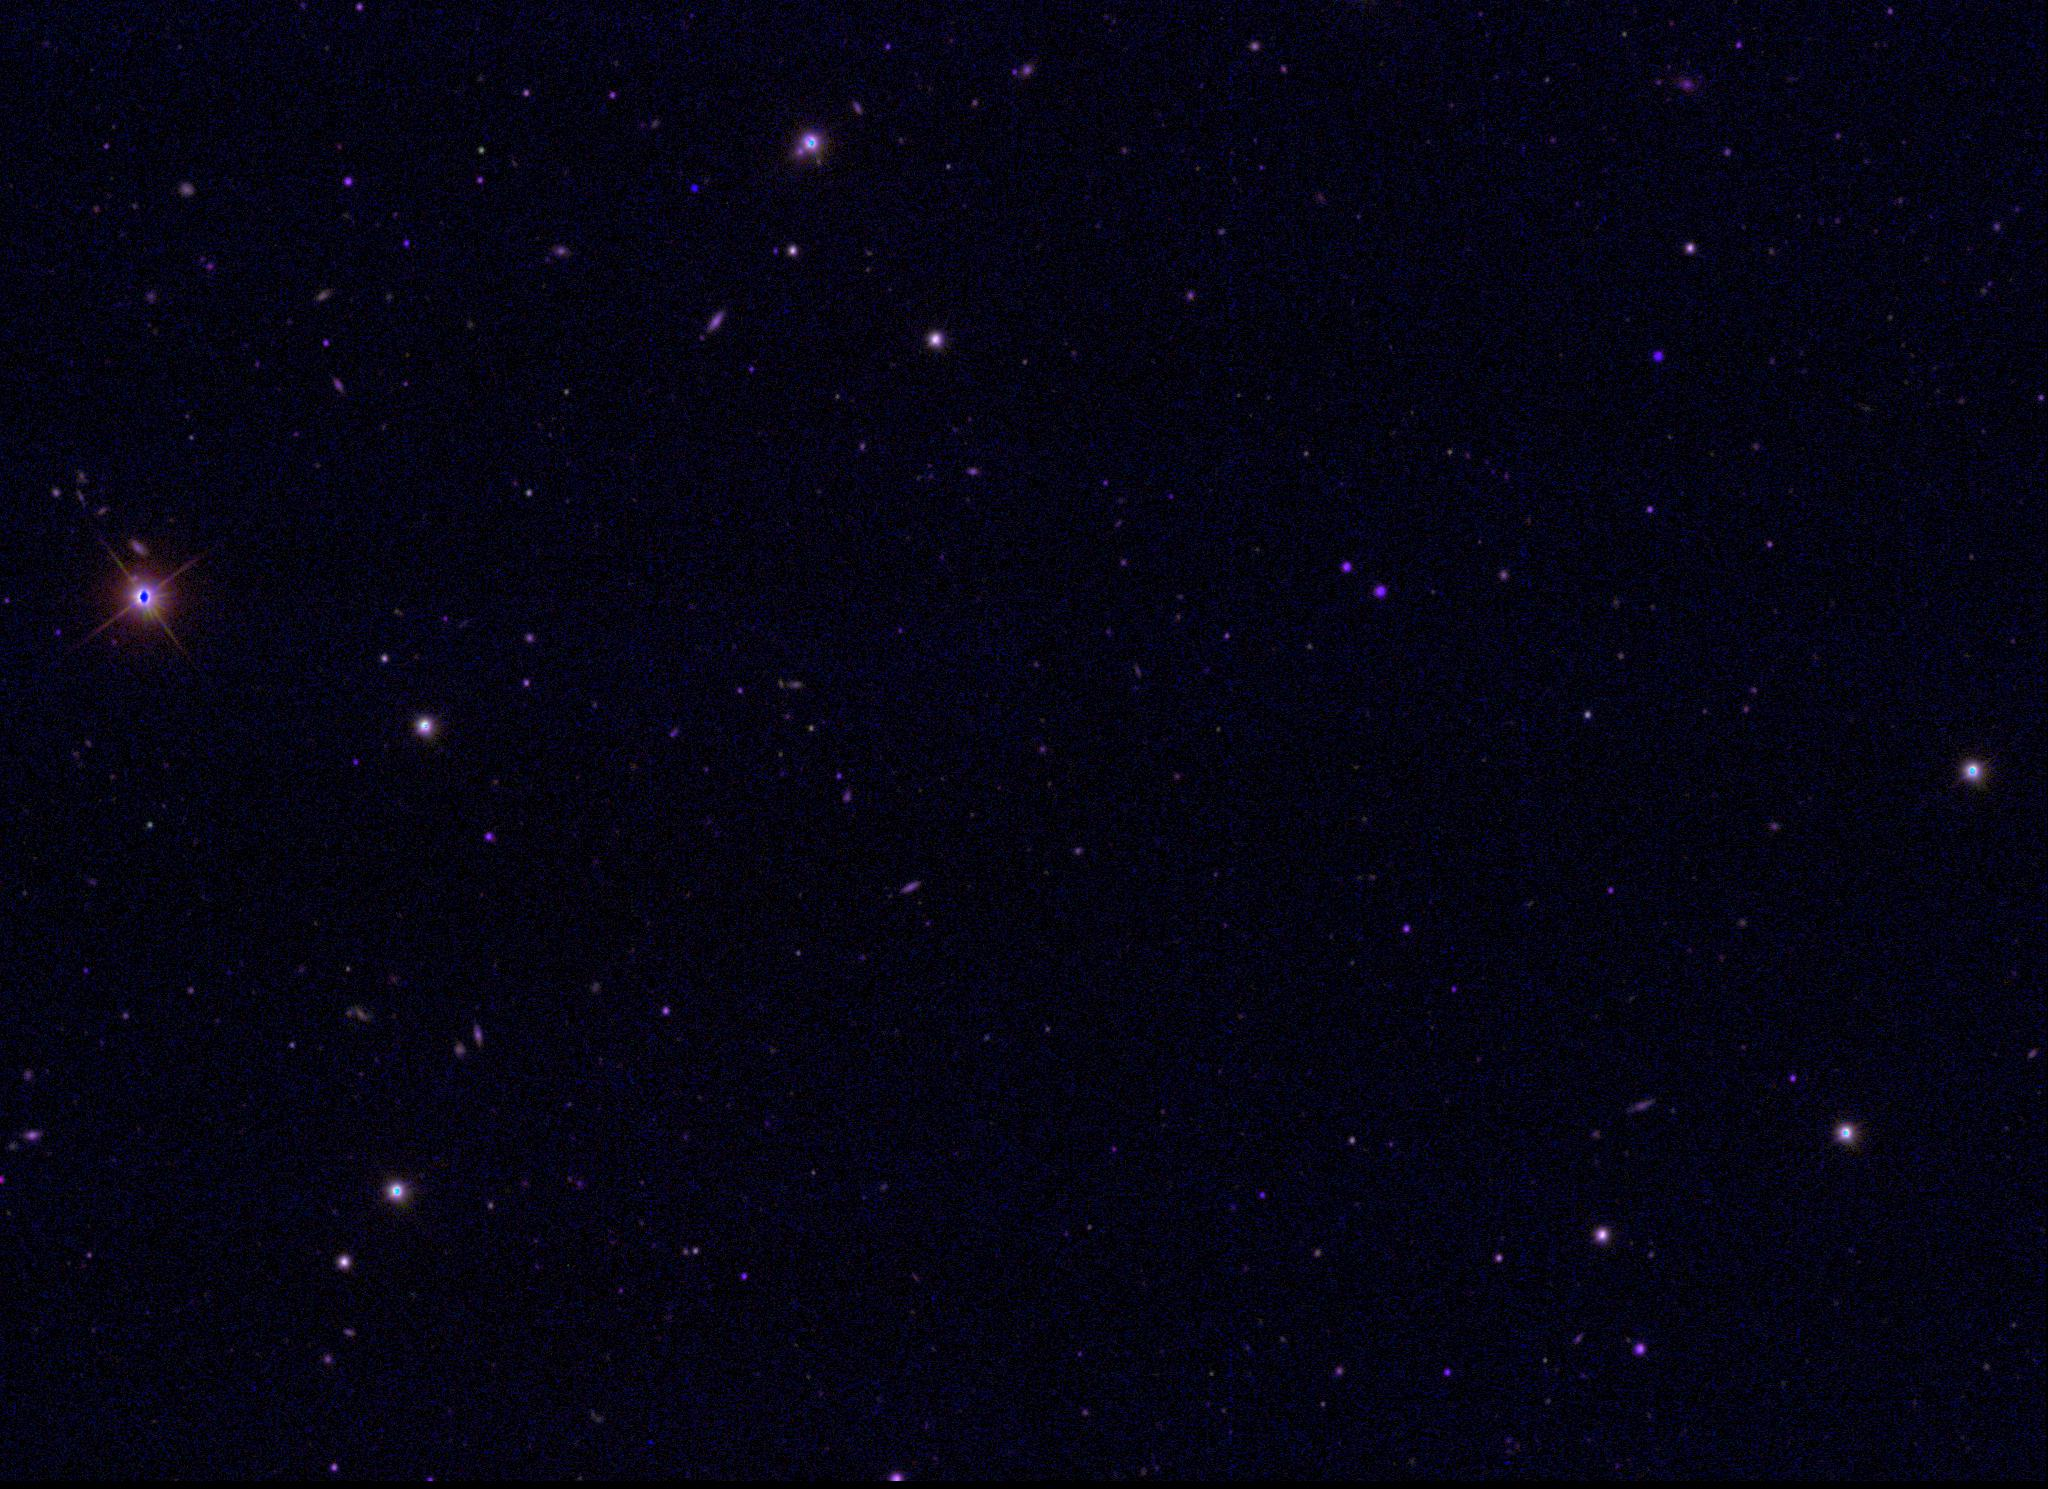L: (688, 181, 701, 196)
